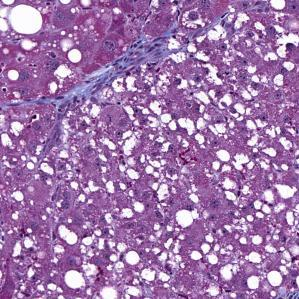fibrosis: (73, 53, 160, 96)
